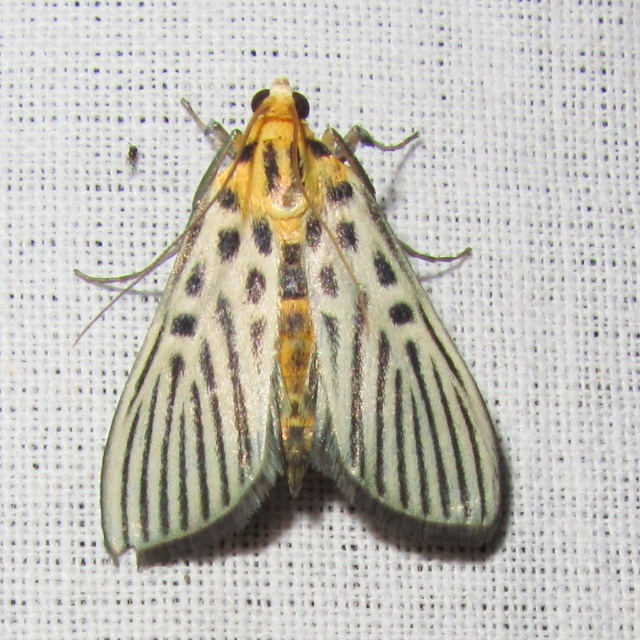Butterfly: (79, 57, 391, 568)
